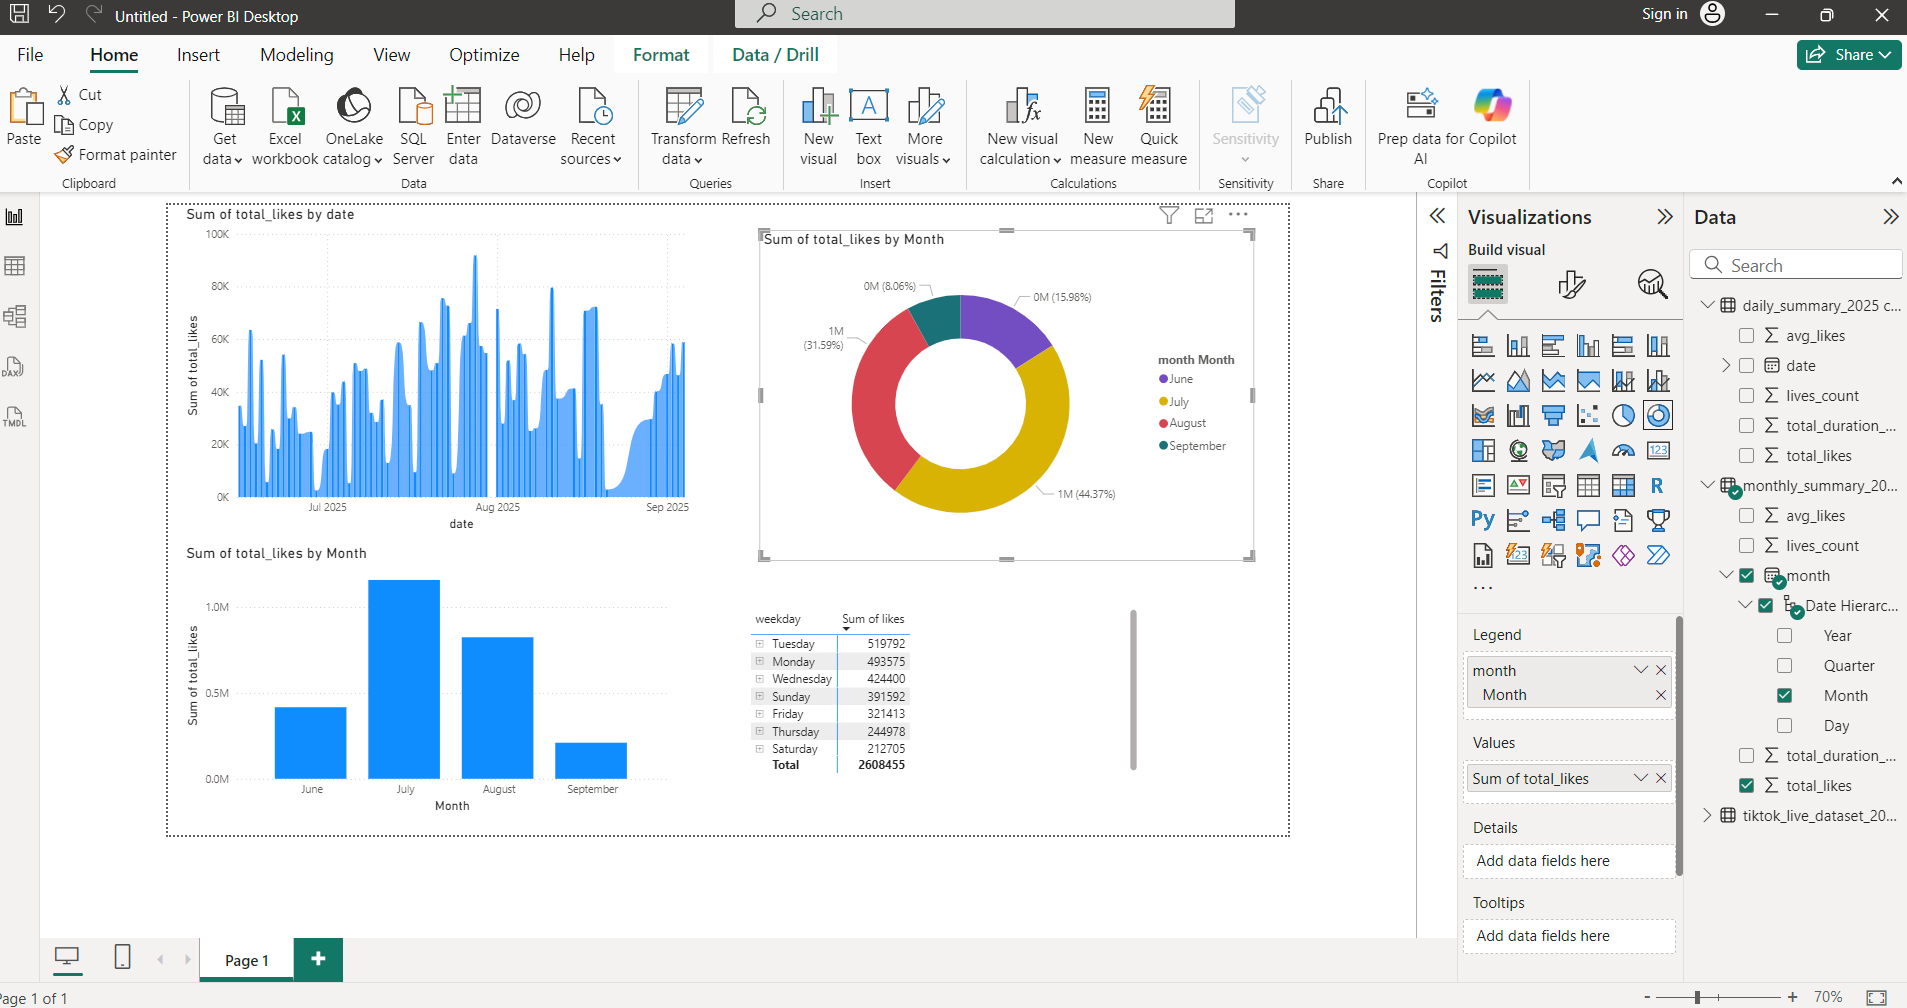

The page's visual inventory and layout, read from the dashboard file:
{"tool":"powerbi","page":{"name":"Page 1","canvas":[1280,720],"ordinal":0},"visuals":[{"type":"ribbonChart","fields":{"Category":["daily_summary_2025 csv.date"],"Y":["Sum(daily_summary_2025 csv.total_likes)"]},"box":[15.9,0,605.3,377.9],"z":0},{"type":"columnChart","fields":{"Category":["daily_summary_2025 csv.date.Variation.Date Hierarchy.Month"],"Y":["Sum(daily_summary_2025 csv.total_likes)"]},"box":[16.3,386.8,560.3,312.7],"z":1},{"type":"pivotTable","fields":{"Rows":["tiktok_live_dataset_2025 csv.weekday","tiktok_live_dataset_2025 csv.start_dt.Variation.Date Hierarchy.Day"],"Values":["Sum(tiktok_live_dataset_2025 csv.likes)"]},"box":[661.4,457.1,451.4,197.1],"z":2},{"type":"donutChart","fields":{"Category":["monthly_summary_2025 csv.month.Variation.Date Hierarchy.Month"],"Y":["Sum(monthly_summary_2025 csv.total_likes)"]},"box":[675.7,28.6,565.7,378.6],"z":3}]}

Visuals, with their boxes on the page's 1280x720 design canvas (x1, y1, x2, y2). These are canvas units, not pixel positions in the 1907x1008 screenshot, which may show the page scaled, cropped or inside an application window:
ribbonChart - daily_summary_2025 csv.date x Sum(daily_summary_2025 csv.total_likes): box=[16, 0, 621, 378]
columnChart - daily_summary_2025 csv.date.Variation.Date Hierarchy.Month x Sum(daily_summary_2025 csv.total_likes): box=[16, 387, 577, 700]
pivotTable - tiktok_live_dataset_2025 csv.weekday x tiktok_live_dataset_2025 csv.start_dt.Variation.Date Hierarchy.Day: box=[661, 457, 1113, 654]
donutChart - monthly_summary_2025 csv.month.Variation.Date Hierarchy.Month x Sum(monthly_summary_2025 csv.total_likes): box=[676, 29, 1241, 407]
